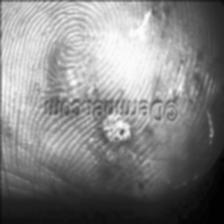Non-Cancerous Skin Condition: (0, 1, 220, 88), (175, 0, 224, 191)
